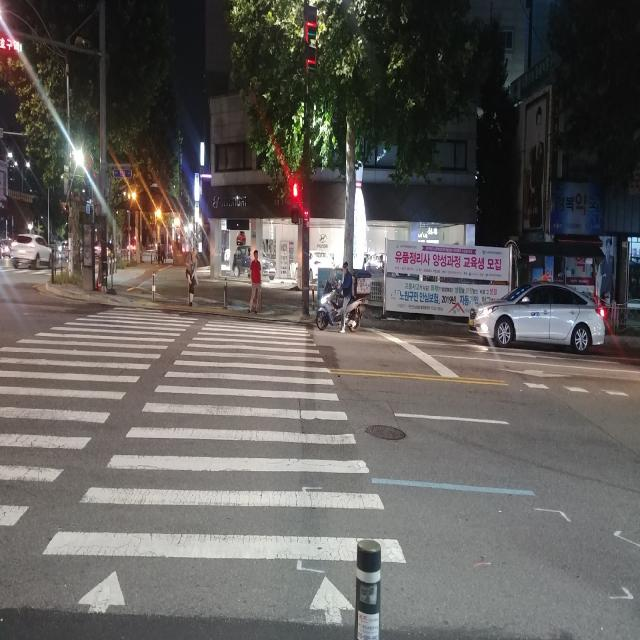빨간불: (290, 182, 300, 222)
횡단보도: (0, 309, 406, 625)
